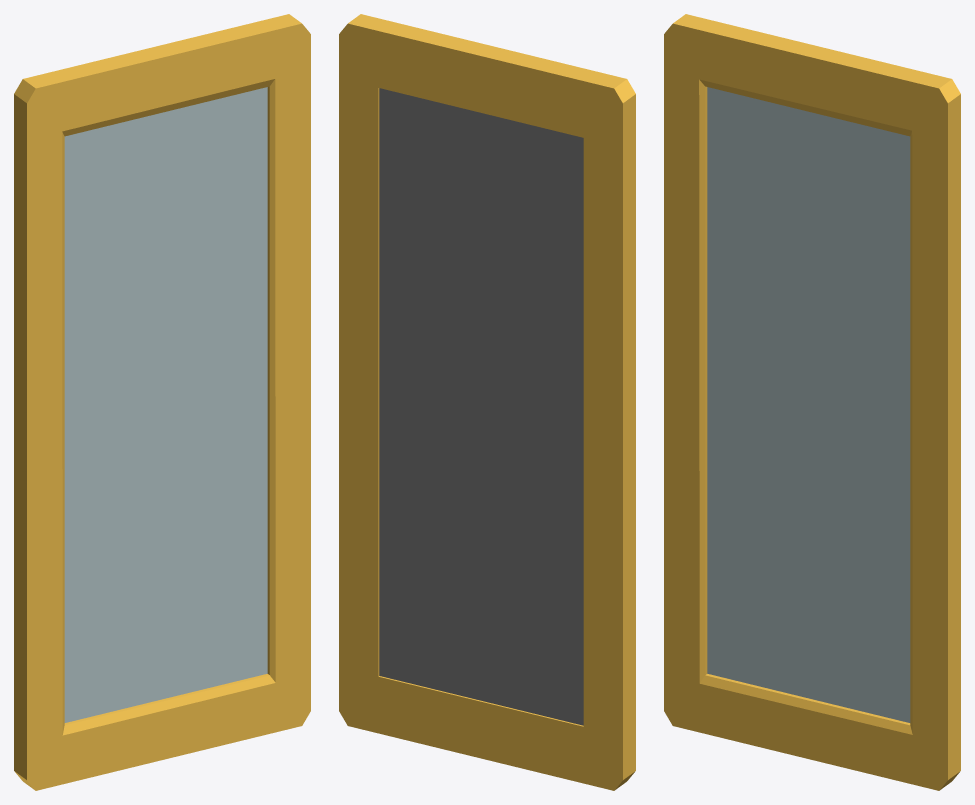
The model's file is Mirror 2.fbx.
The picture shows the model from 3 angles, left to right: view 1: azimuth 30°, elevation 25°; view 2: azimuth 150°, elevation 25°; view 3: azimuth 330°, elevation 25°; orthographic projection.
Visible parts, largest first — view 1: Mirror 2; view 2: Mirror 2; view 3: Mirror 2.
Part boxes in pixels (<box>): Mirror 2: <box>14,14,310,790</box>; Mirror 2: <box>339,14,635,790</box>; Mirror 2: <box>664,14,960,790</box>.
Bounding box in the file's own units: 165 × 391 × 13.16.
